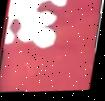dent: (0, 0, 104, 101)
